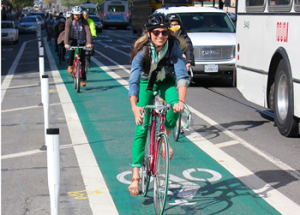with_helmet: (145, 12, 171, 33)
